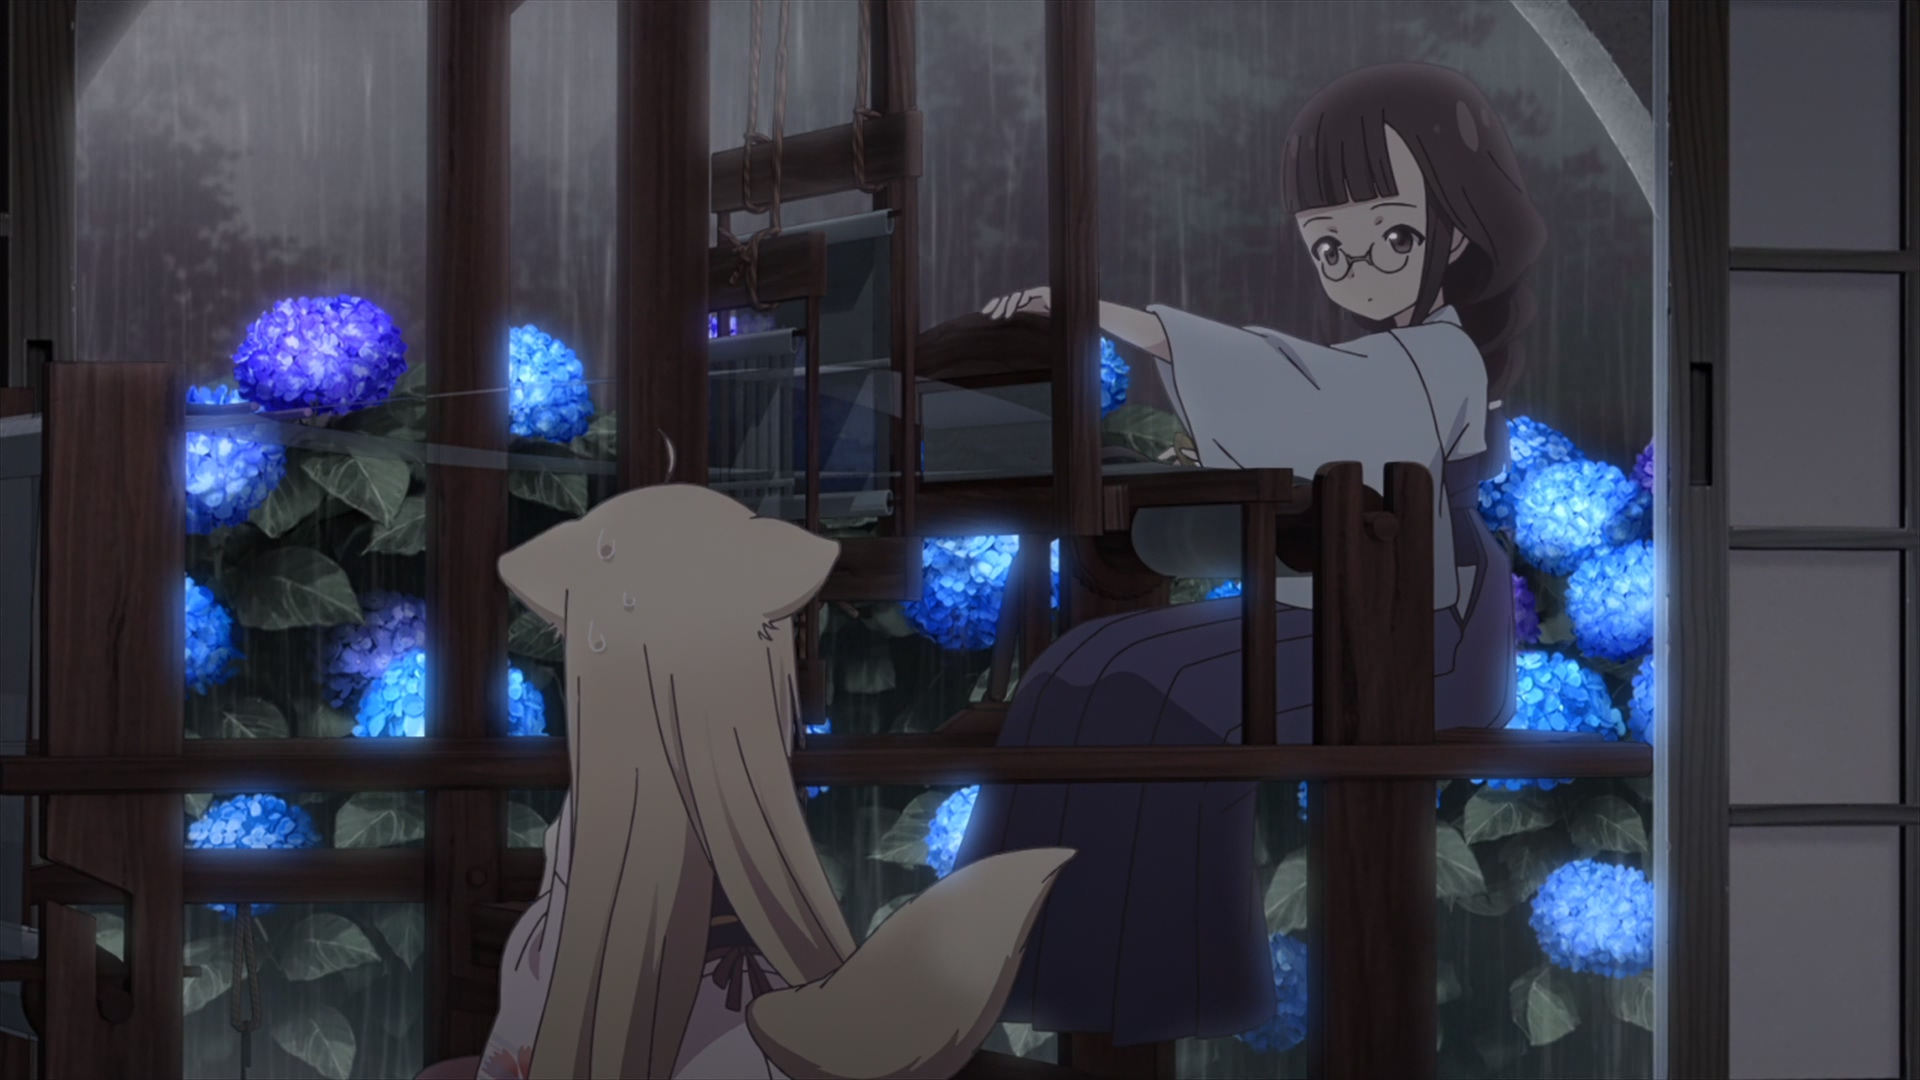其他: (982, 65, 1545, 1056)
柚: (477, 433, 1075, 1080)
